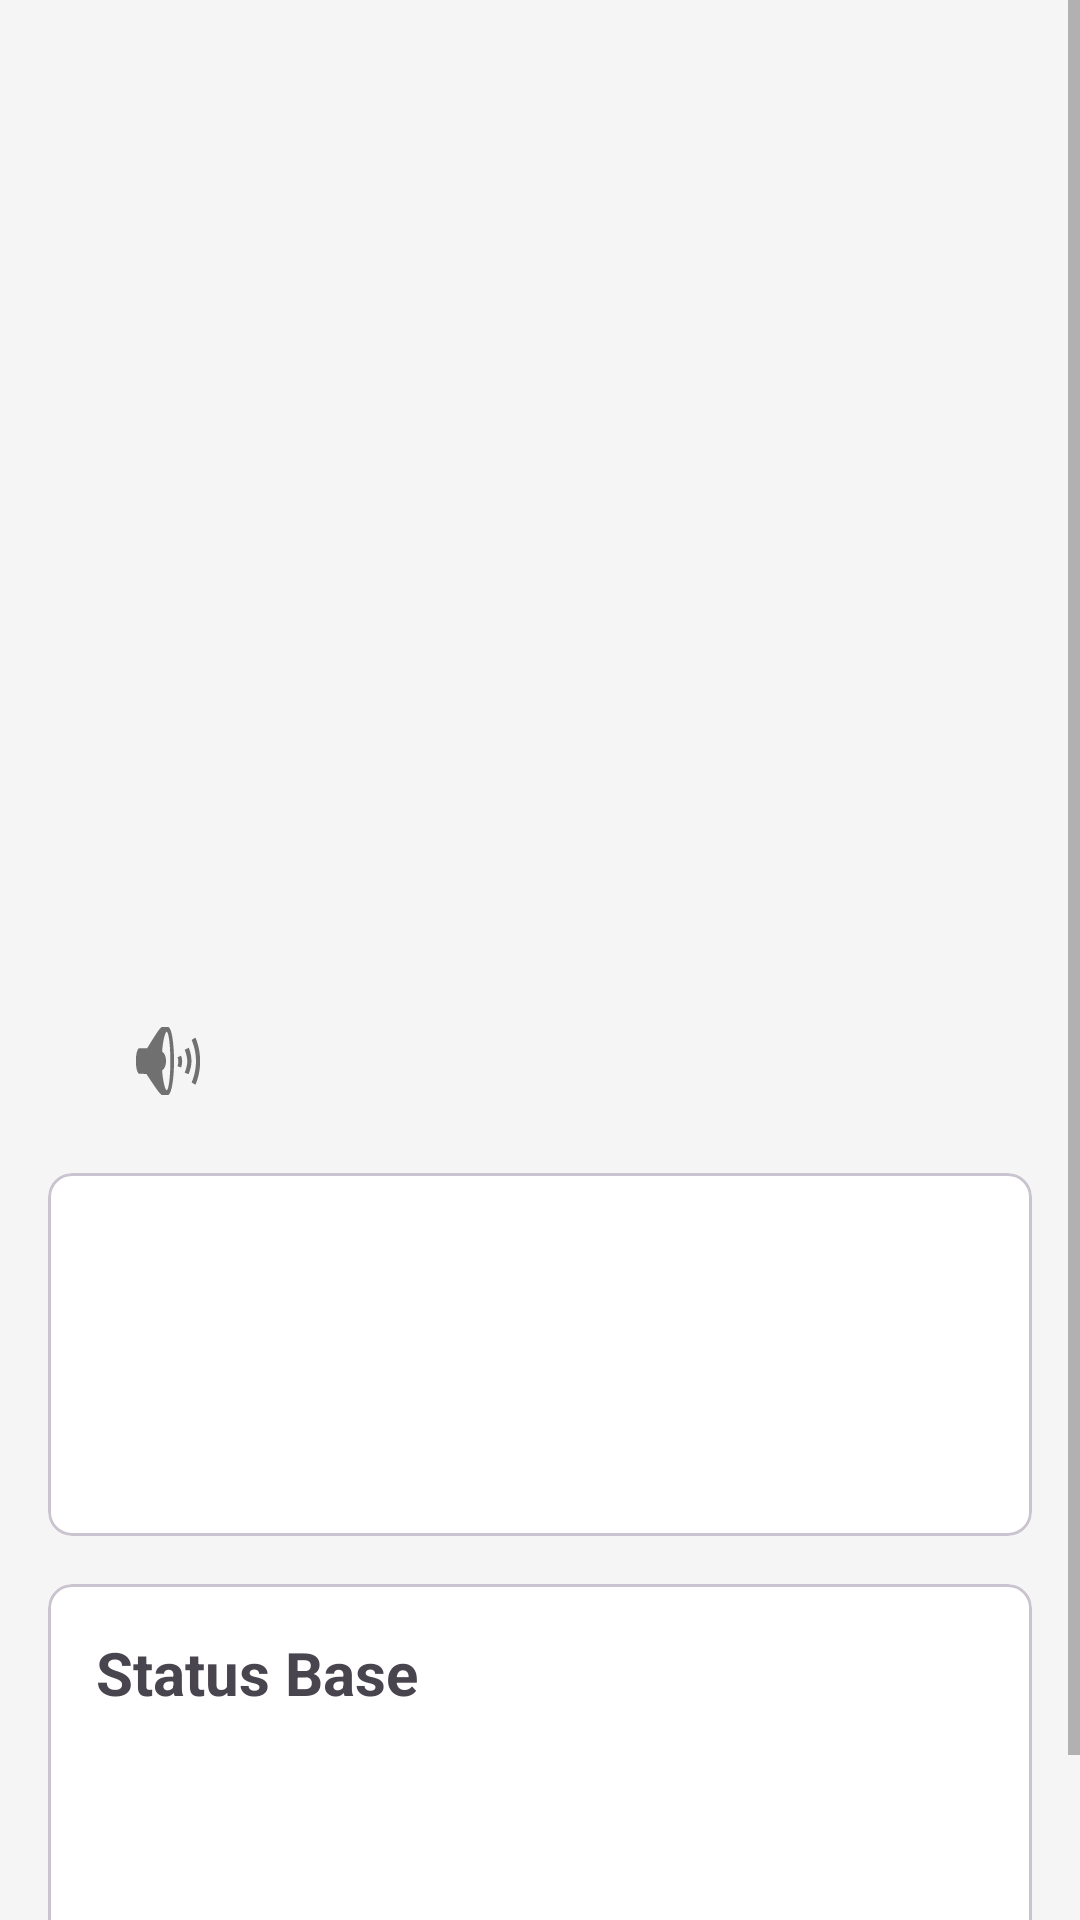

Locate icon controls on the screen. Image size 1080px×1920px, boxes as (x1, y1, x2, y2).
lock silent mode off: (136, 1027, 200, 1095)
